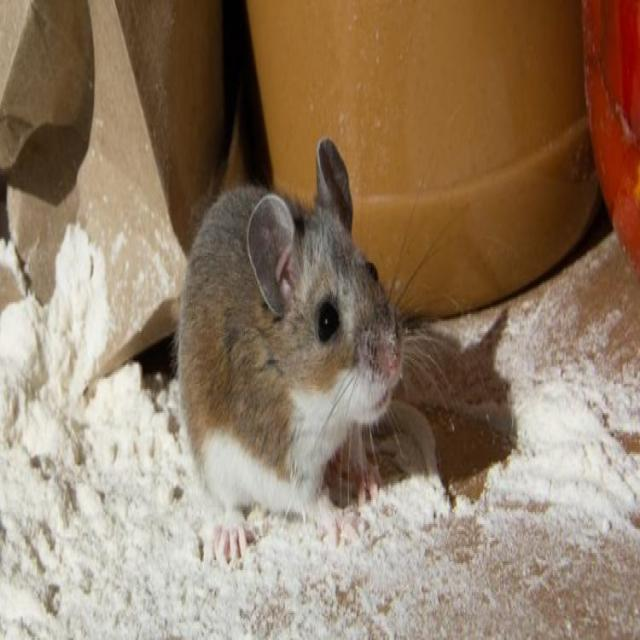rat: (160, 133, 409, 556)
